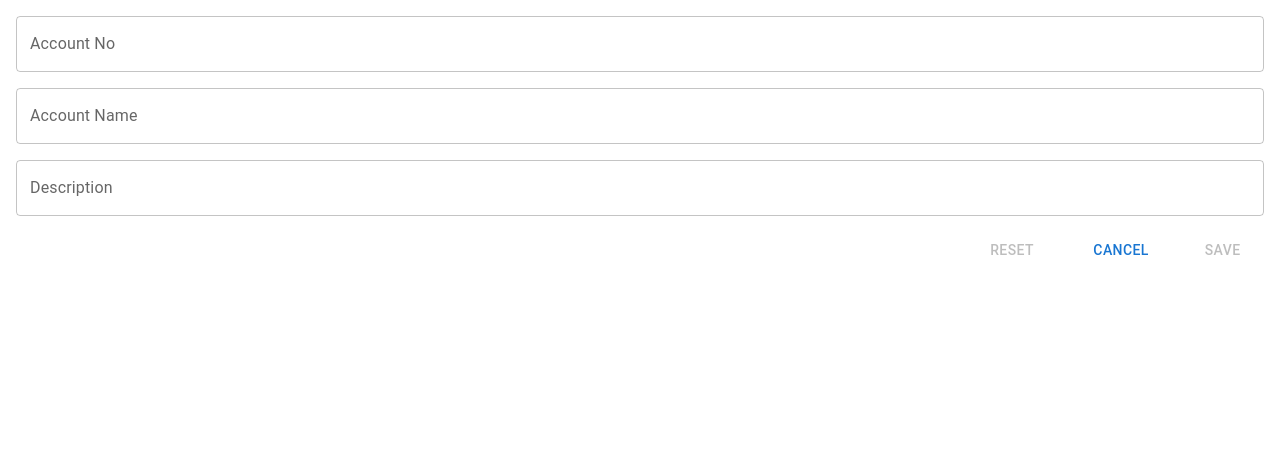
Test case: Create Account - failures › Given valid account data › When user saves the data › When Server returns error › Then it should display an error message
Type "1234" into the field labelled "Account No" at (640, 44), box [16,16,1264,72]
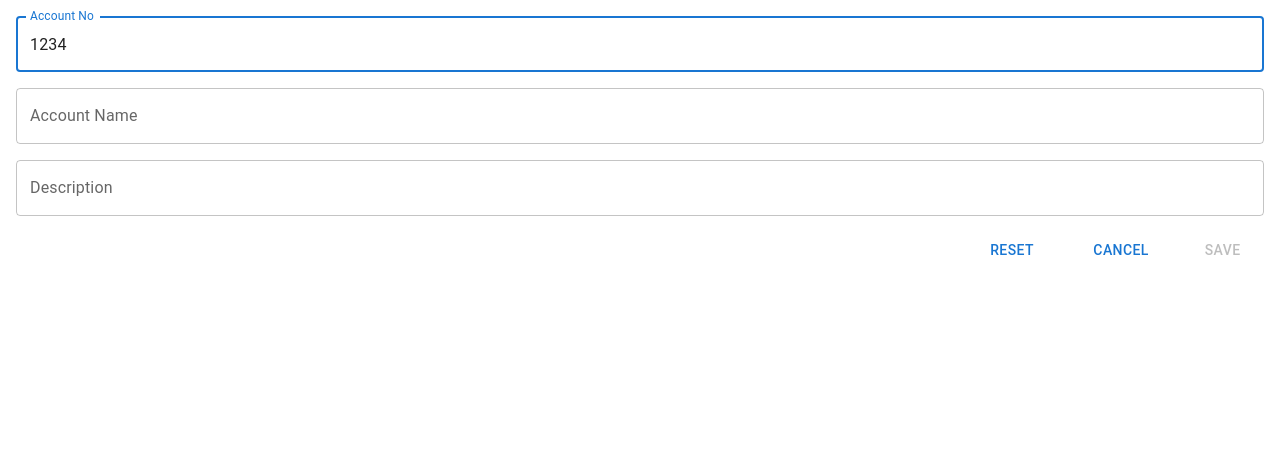
Type "Business Support" into the field labelled "Account Name" at (640, 116), box [16,88,1264,144]
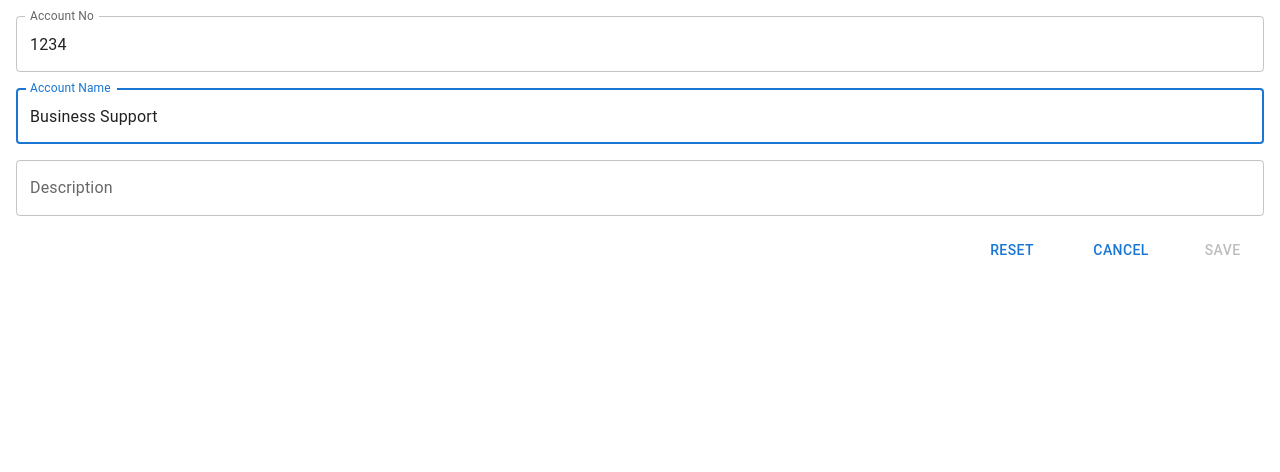
Type "Bribes, protection money, etc." into the field labelled "Description" at (640, 188), box [16,160,1264,216]
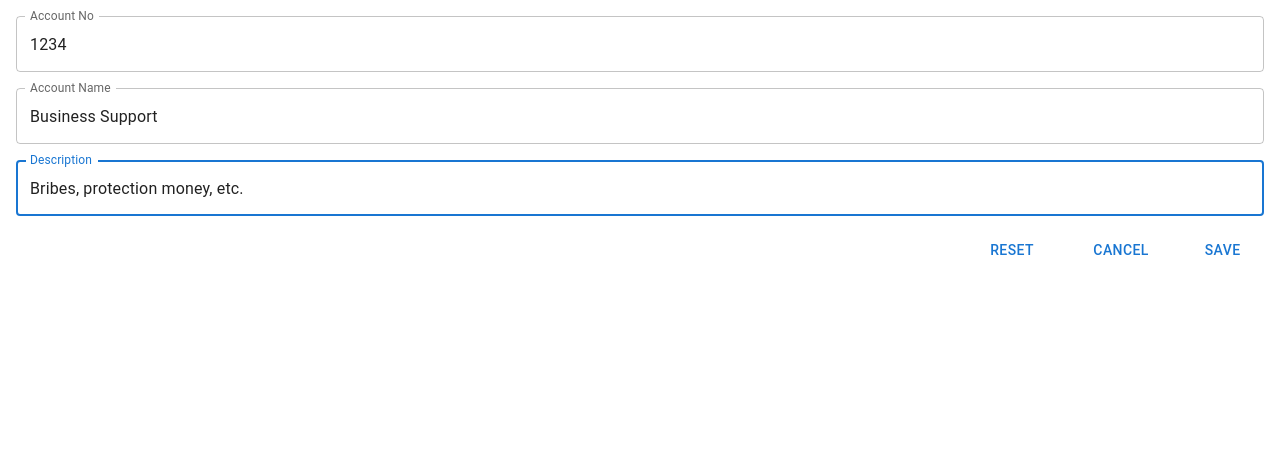
Click the button "SAVE" at (1223, 250), box [1191,232,1255,268]
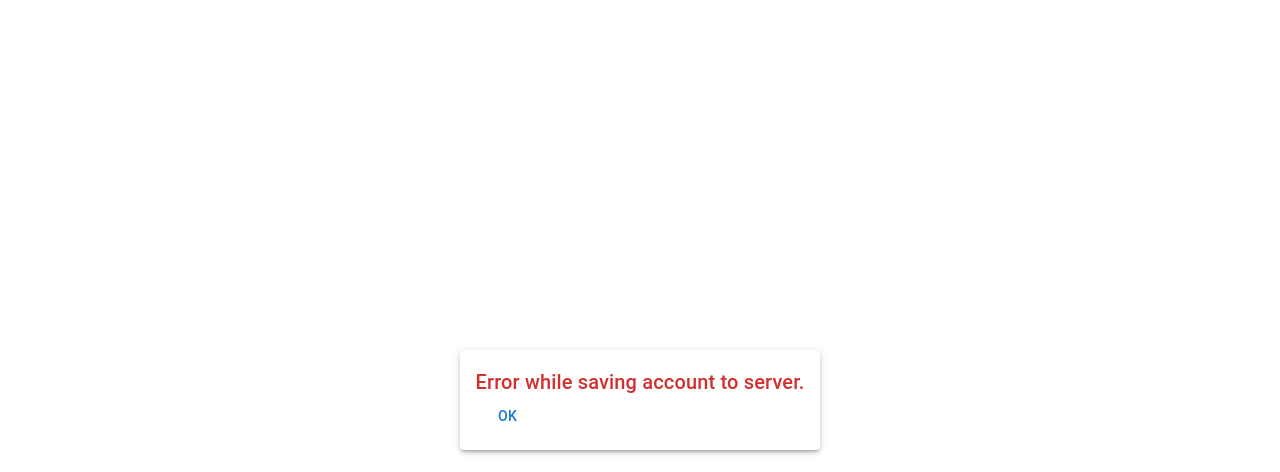
Now the heading "Error while saving account to server." is shown, box [476,366,804,398]
